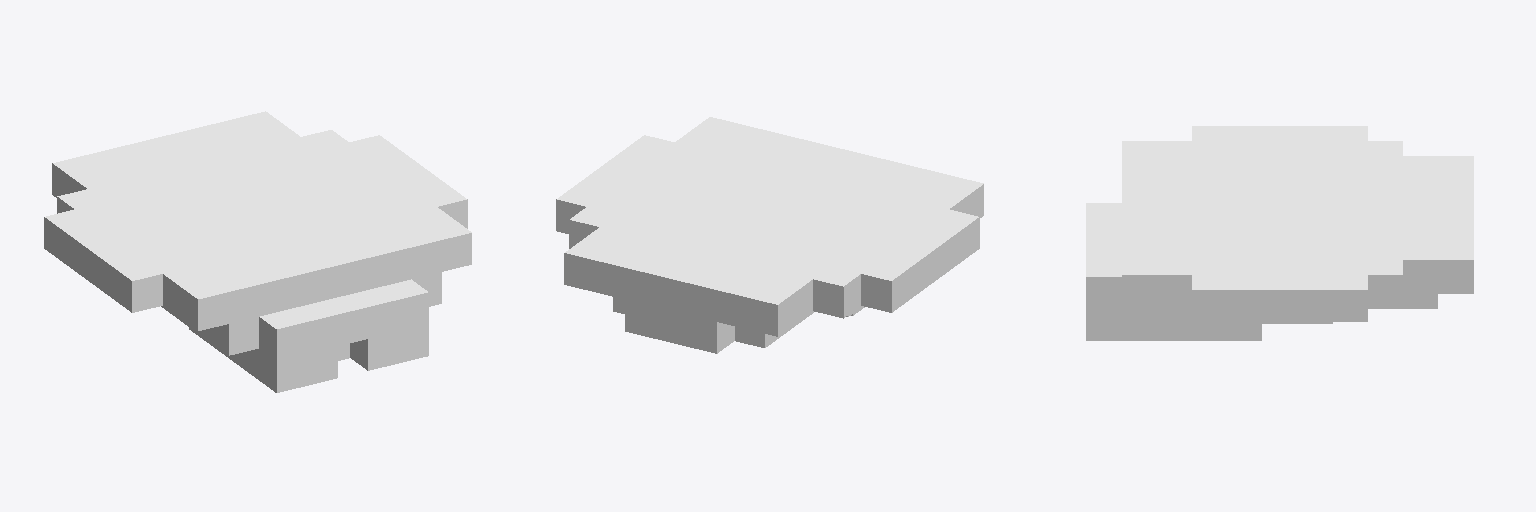
The model's file is gglive_main_jaw.obj.
The picture shows the model from 3 angles: view 1: azimuth 30°, elevation 25°; view 2: azimuth 150°, elevation 25°; view 3: azimuth 270°, elevation 25°; orthographic projection.
Visible parts, largest first — view 1: gglive_main_jaw; view 2: gglive_main_jaw; view 3: gglive_main_jaw.
Boxes of the visible parts, box(x1,y1,x2,y2) form: gglive_main_jaw: box(44, 111, 471, 392); gglive_main_jaw: box(556, 117, 983, 353); gglive_main_jaw: box(1086, 126, 1473, 340).
Size of the model in its own units: 11 by 3 by 11.